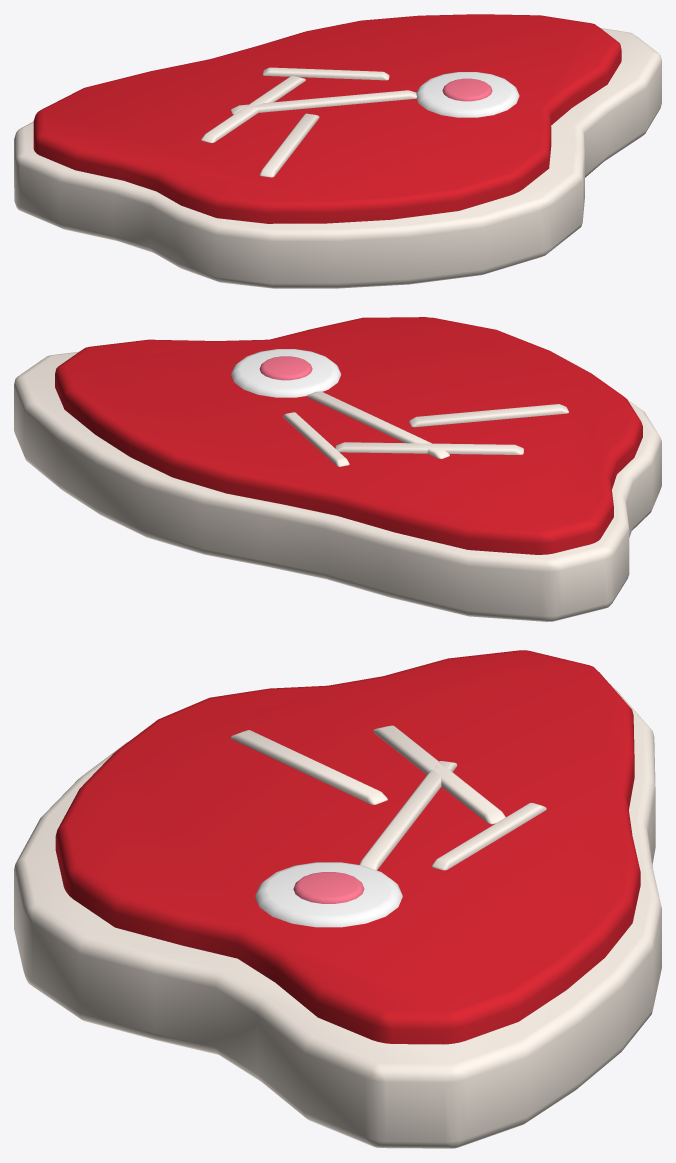
The model's file is food_ingredient_steak.gltf.
3 renders of one model, top to bottom at view 1: azimuth 30°, elevation 25°; view 2: azimuth 150°, elevation 25°; view 3: azimuth 270°, elevation 25°, orthographic. The views are drawn at different scales.
Visible parts, largest first — view 1: SteakRedCore; view 2: SteakRedCore; view 3: SteakRedCore.
Boxes of the visible parts, x1=… form: SteakRedCore: x1=14, y1=14, x2=661, y2=288; SteakRedCore: x1=14, y1=317, x2=661, y2=621; SteakRedCore: x1=14, y1=650, x2=661, y2=1148.
Size of the model in its own units: 0.593 by 0.082 by 0.3961.
